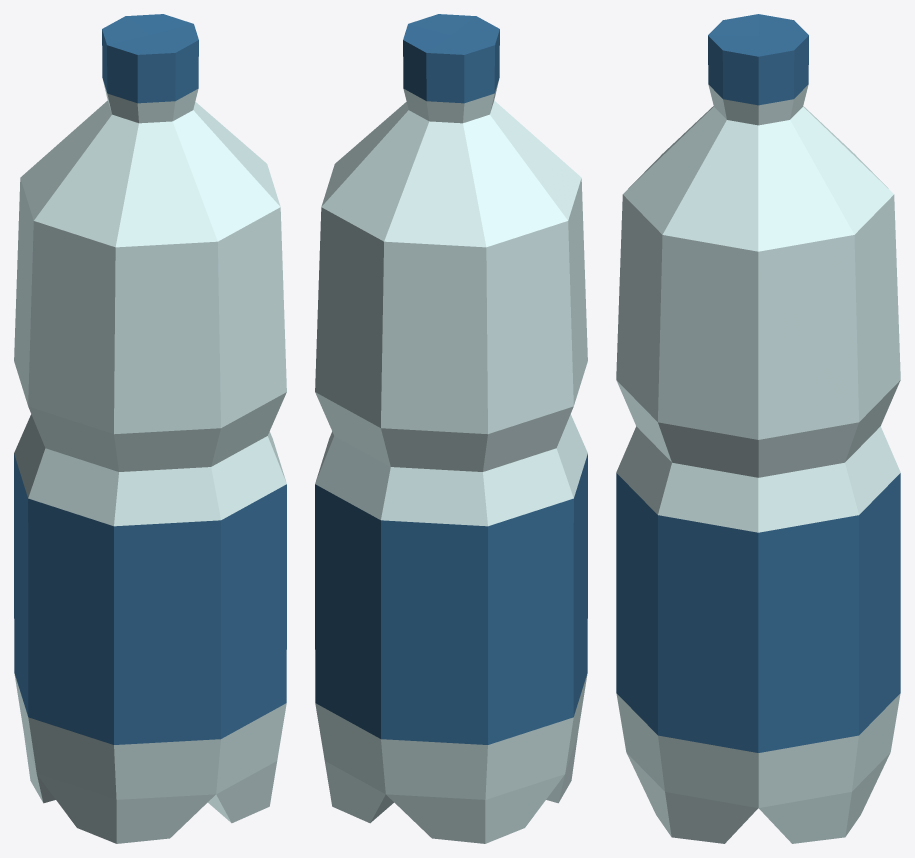
The model's file is water-bottle.glb.
3 renders of one model, left to right at view 1: azimuth 30°, elevation 25°; view 2: azimuth 150°, elevation 25°; view 3: azimuth 270°, elevation 25°, orthographic.
Visible parts, largest first — view 1: water-bottle; view 2: water-bottle; view 3: water-bottle.
Part boxes in pixels (<box>): water-bottle: <box>14,14,286,843</box>; water-bottle: <box>315,14,587,843</box>; water-bottle: <box>616,14,900,843</box>.
Size of the model in its own units: 0.16 by 0.4743 by 0.16.
1 material, 1 textured.
